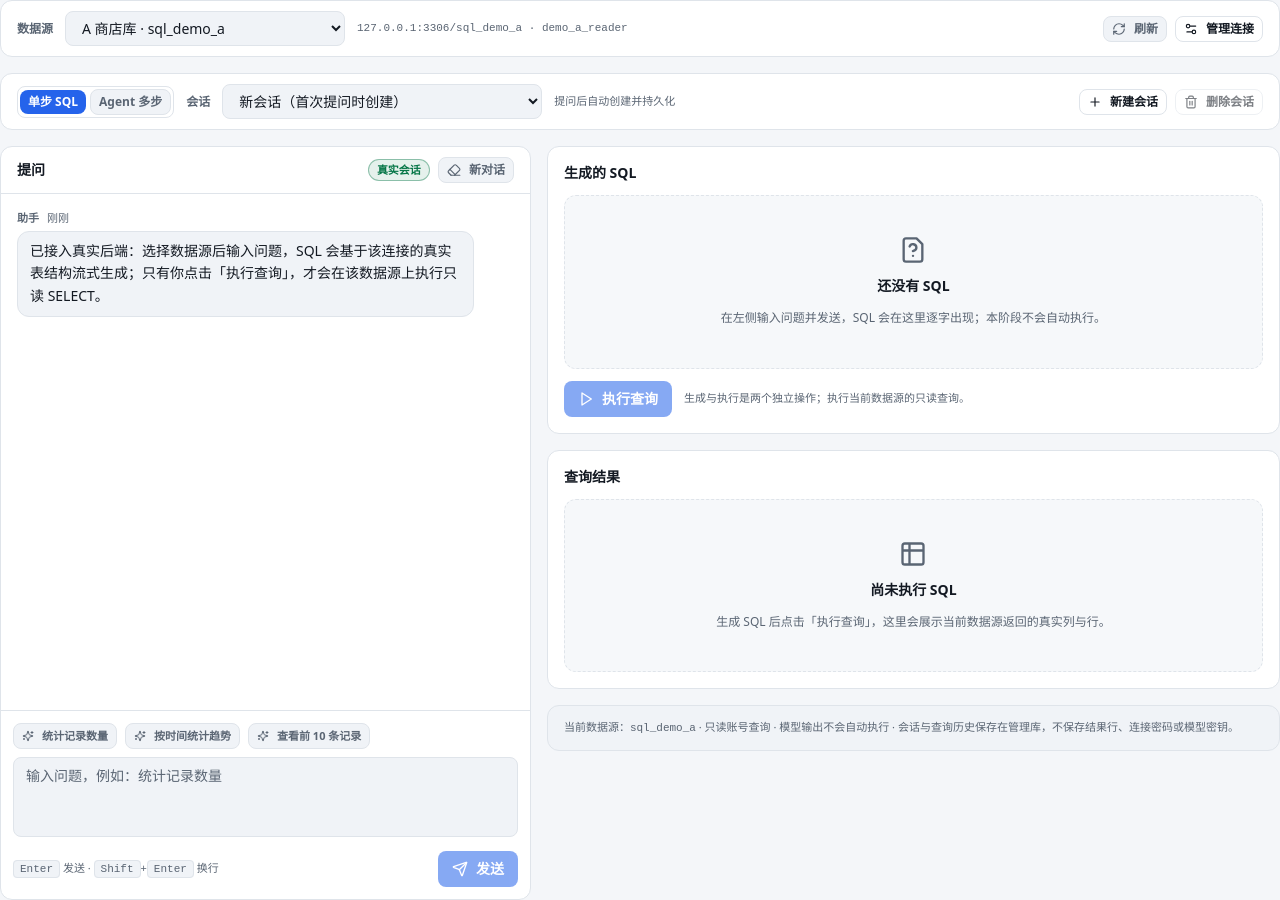
DashboardPage 真实工作台链路 › 首次提问先创建会话，再携带 connectionId 与 conversationId 流式生成
The image size is (1280, 900).
Expected: the dropdown labelled "数据源" is shown, [65,11,345,46]
Type "统计订单数量" into the text box named "提问内容". click: (265,797)
box: [13,757,518,837]
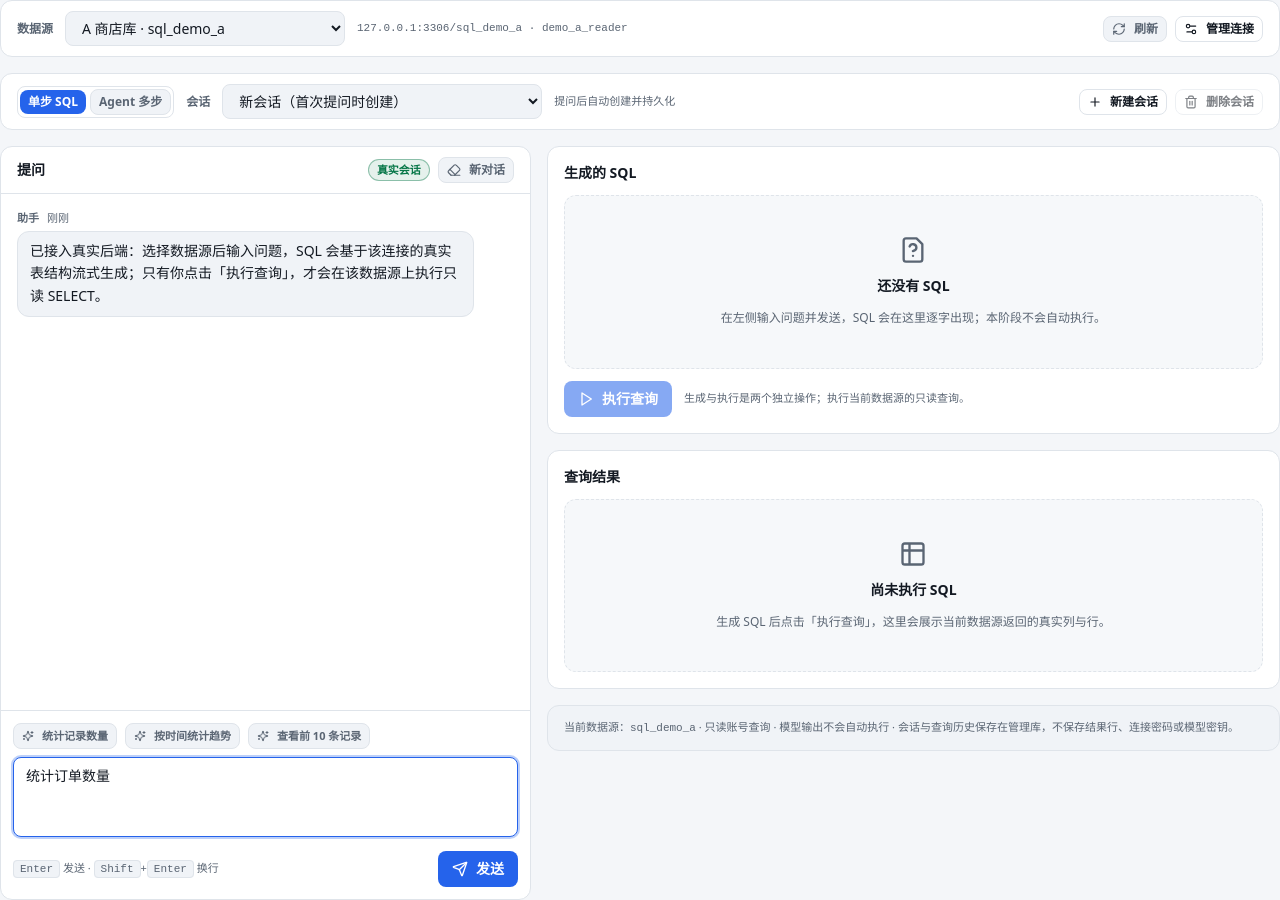
Click the button "发送". click: (478,869)
box: [438,851,518,887]
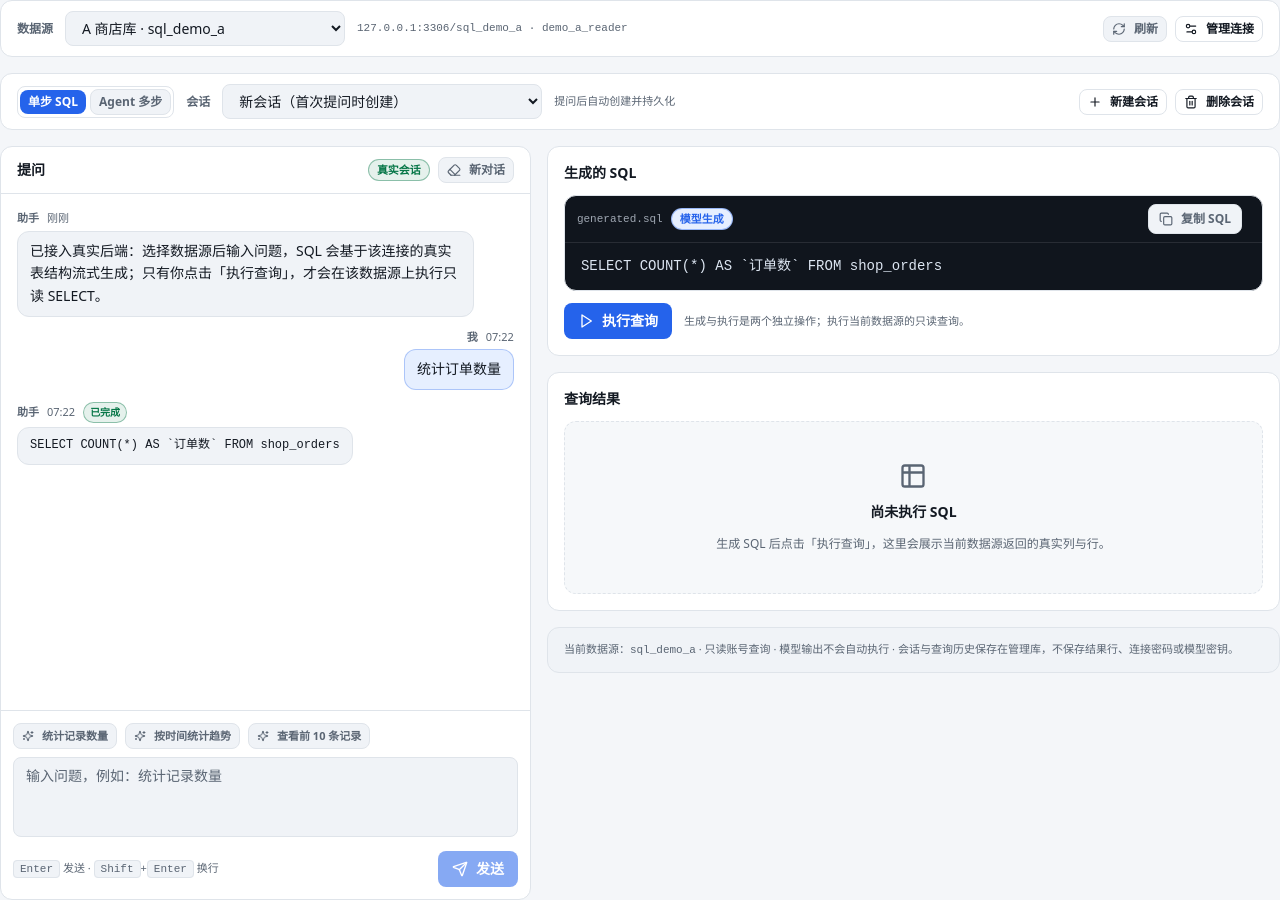
Expected: the button "执行查询" is enabled, [564,303,672,339]
